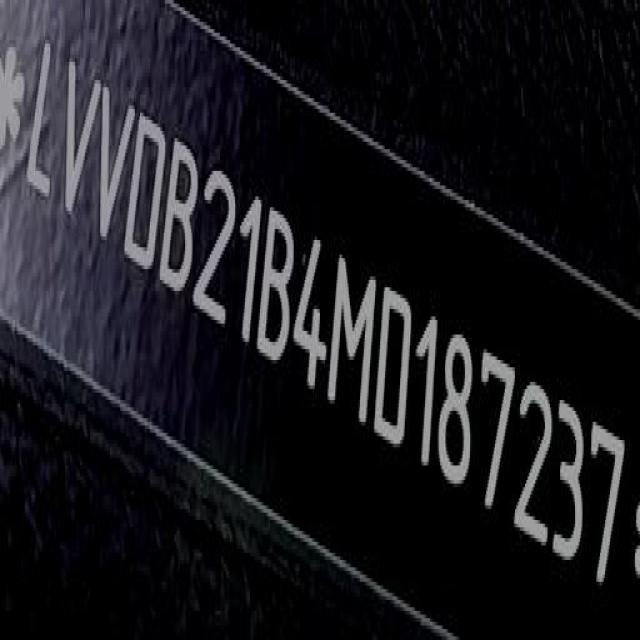1: (415, 307, 439, 480), (238, 182, 259, 356)
2: (196, 155, 235, 340), (516, 377, 552, 551)
3: (556, 392, 586, 564)
4: (291, 234, 327, 399)
7: (590, 416, 628, 593), (478, 337, 514, 522)
8: (440, 325, 476, 498)
B: (256, 204, 294, 378), (164, 129, 196, 306)
D: (127, 102, 164, 286), (375, 282, 409, 456)
L: (26, 29, 56, 208)
M: (332, 249, 377, 430)
V: (98, 72, 138, 245), (65, 51, 100, 240)
